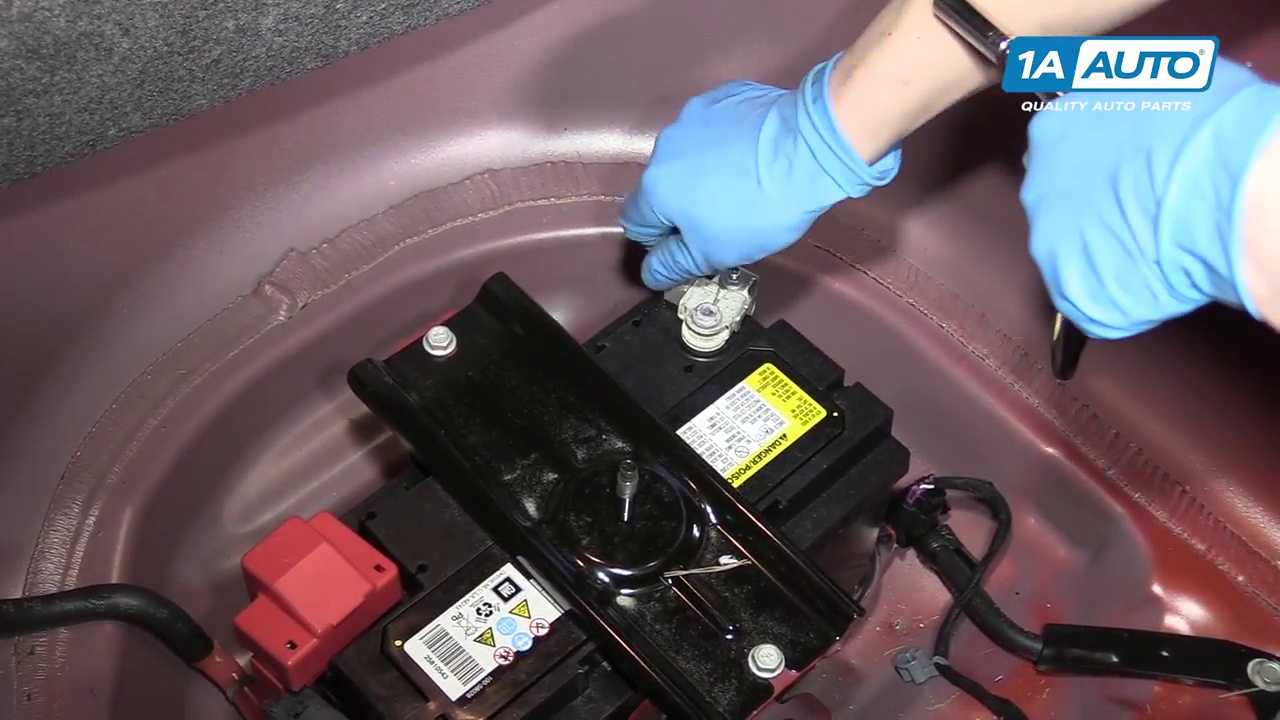battery: (242, 267, 905, 720)
neg_connected: (637, 231, 774, 367)
neg_touched: (635, 180, 788, 370)
pos_connected: (195, 493, 429, 688)
